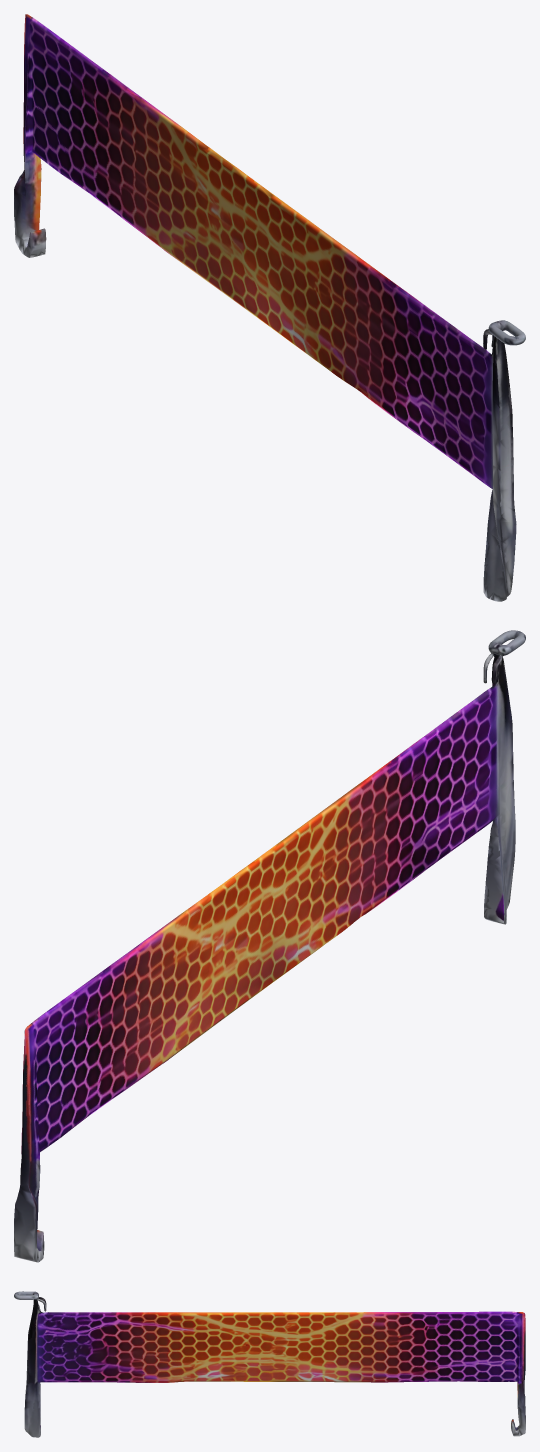
Rendered from jump-optimized.glb.
3 renders of one model, top to bottom at view 1: azimuth 30°, elevation 25°; view 2: azimuth 150°, elevation 25°; view 3: azimuth 270°, elevation 25°, orthographic. The views are drawn at different scales.
Parts seen in each view (by area): view 1: tripo_node_bdc79764-d0f2-47d9-a0d2-b816342057c1; view 2: tripo_node_bdc79764-d0f2-47d9-a0d2-b816342057c1; view 3: tripo_node_bdc79764-d0f2-47d9-a0d2-b816342057c1.
Part boxes in pixels (box(x1,y1,x2,y2)): tripo_node_bdc79764-d0f2-47d9-a0d2-b816342057c1: box(14, 14, 525, 601); tripo_node_bdc79764-d0f2-47d9-a0d2-b816342057c1: box(14, 630, 525, 1262); tripo_node_bdc79764-d0f2-47d9-a0d2-b816342057c1: box(14, 1291, 525, 1437).
Size of the model in its own units: 0.0269 by 0.3081 by 1.
1 material, 1 textured.
